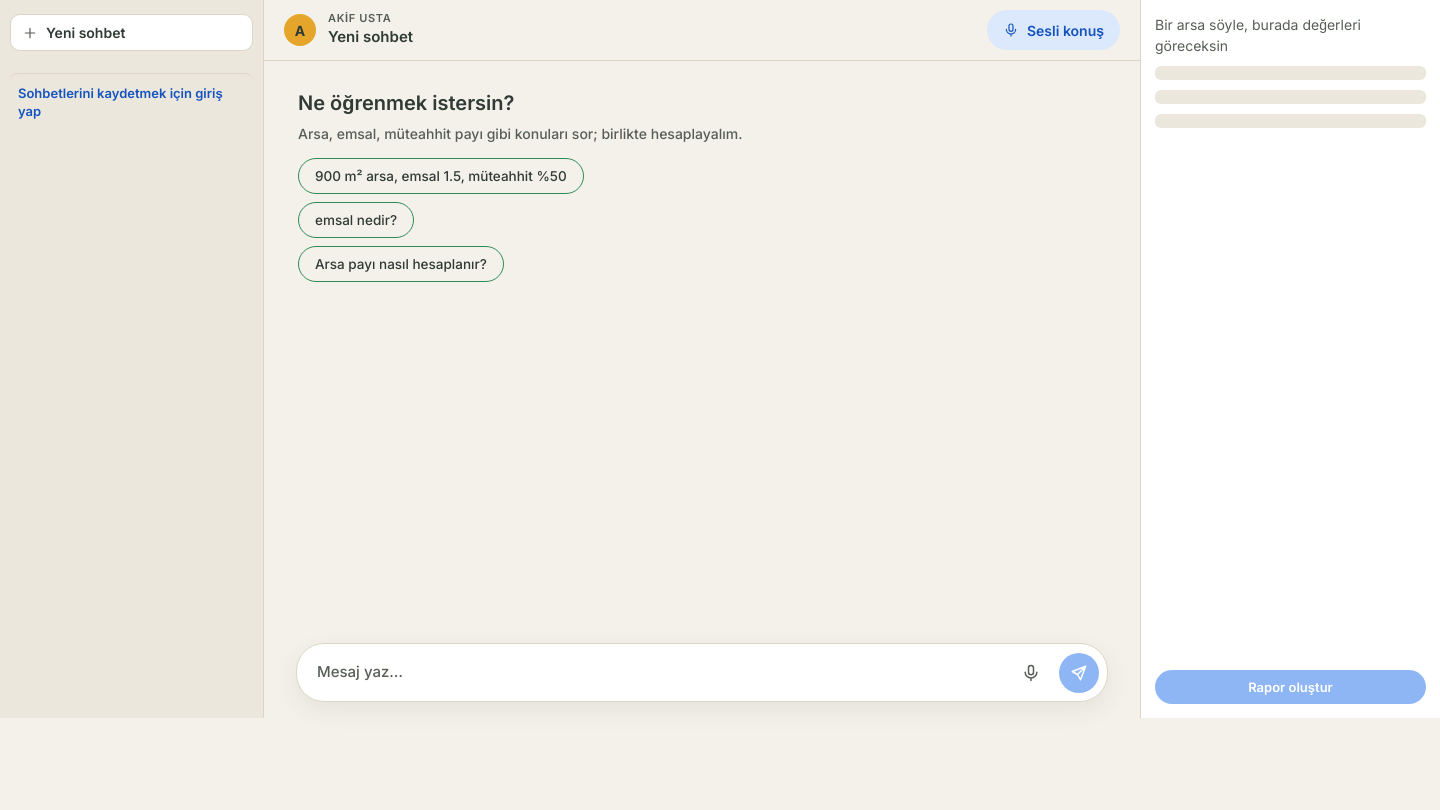
it: mesaj gönderince kullanıcı balonu + akif cevabı görünür
Step 1. Type "merhaba" into the text box → [660, 672], box [317, 652, 1003, 693]
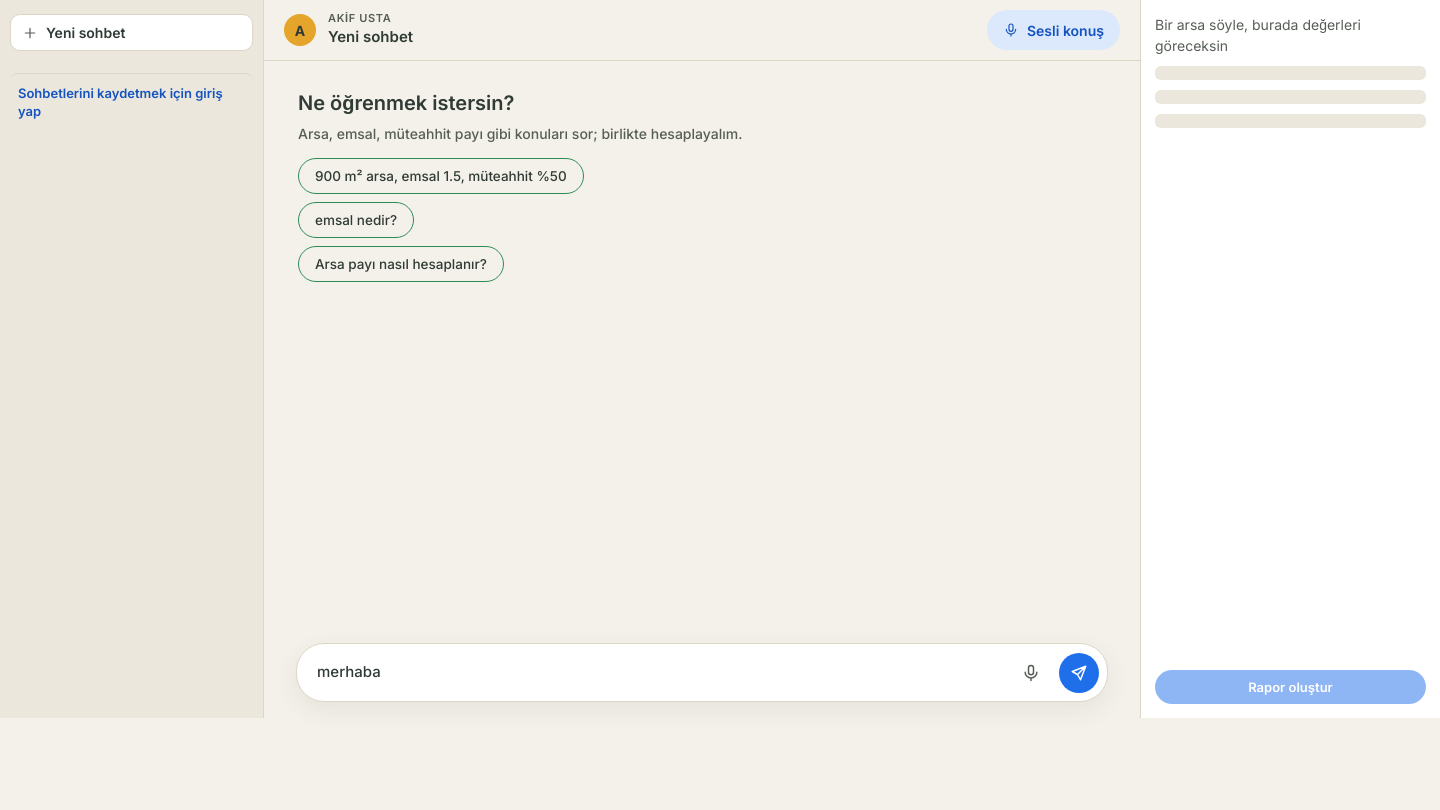
Step 2. Submit the form, box [296, 643, 1108, 702]
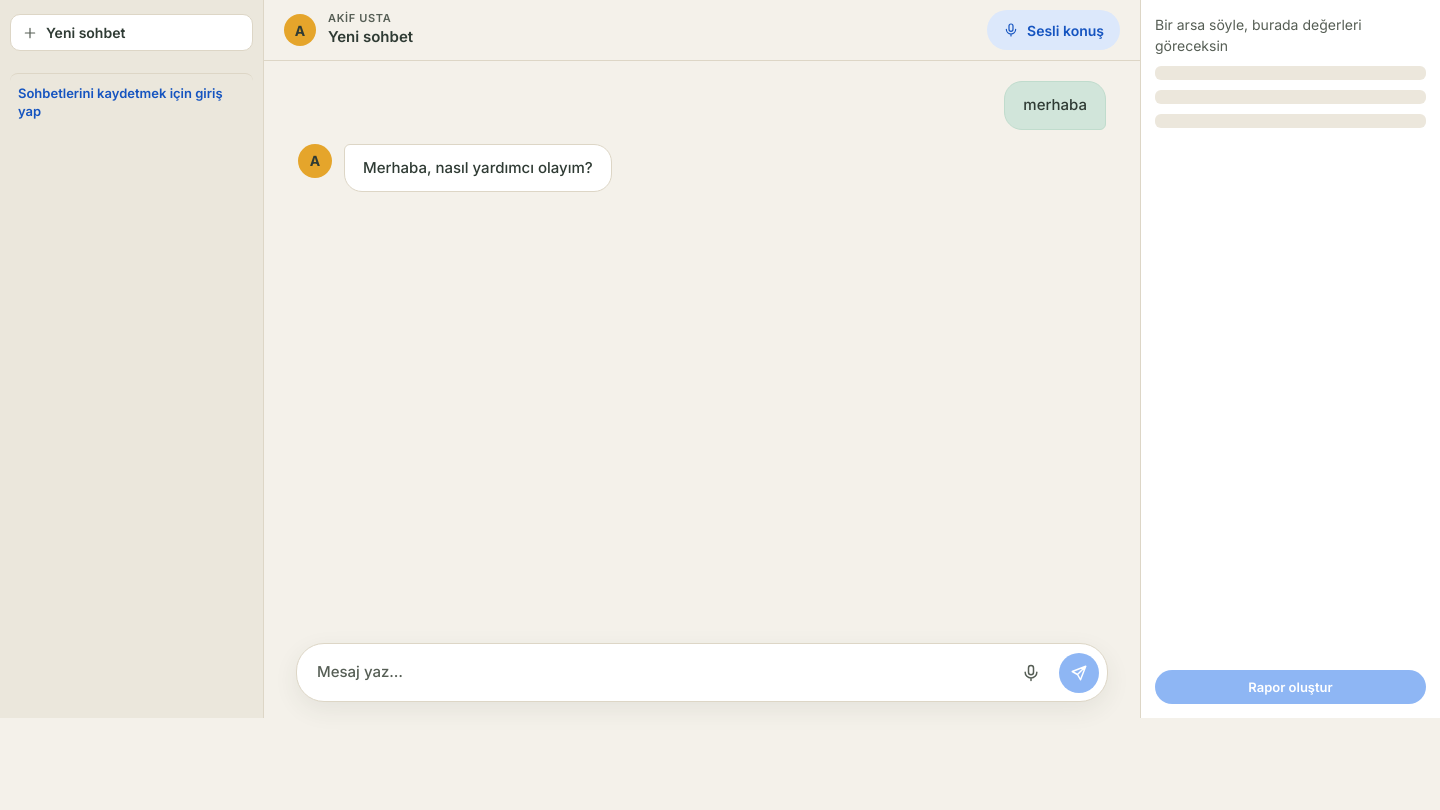
Result: the text "merhaba" is shown at [1004, 81, 1106, 130]
Result: the text "Merhaba, nasıl yardımcı olayım?" is shown at [344, 144, 612, 192]
